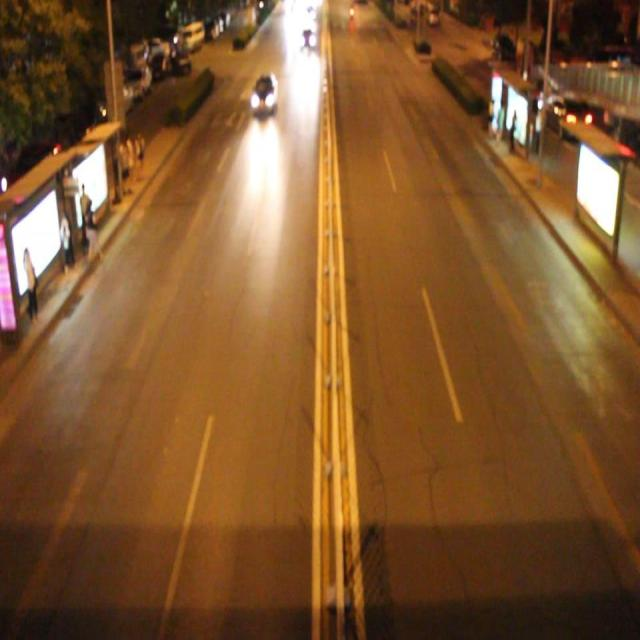car: (250, 72, 279, 116)
